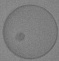small: (15, 32, 25, 40)
